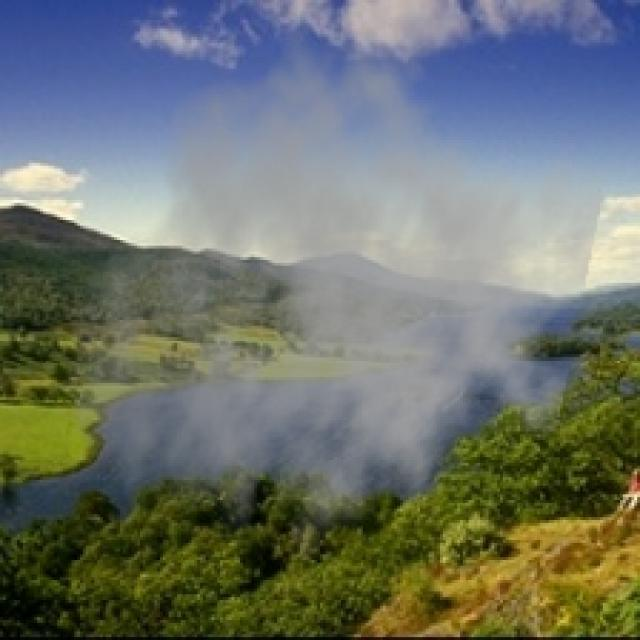Smoke: (62, 20, 608, 586)
